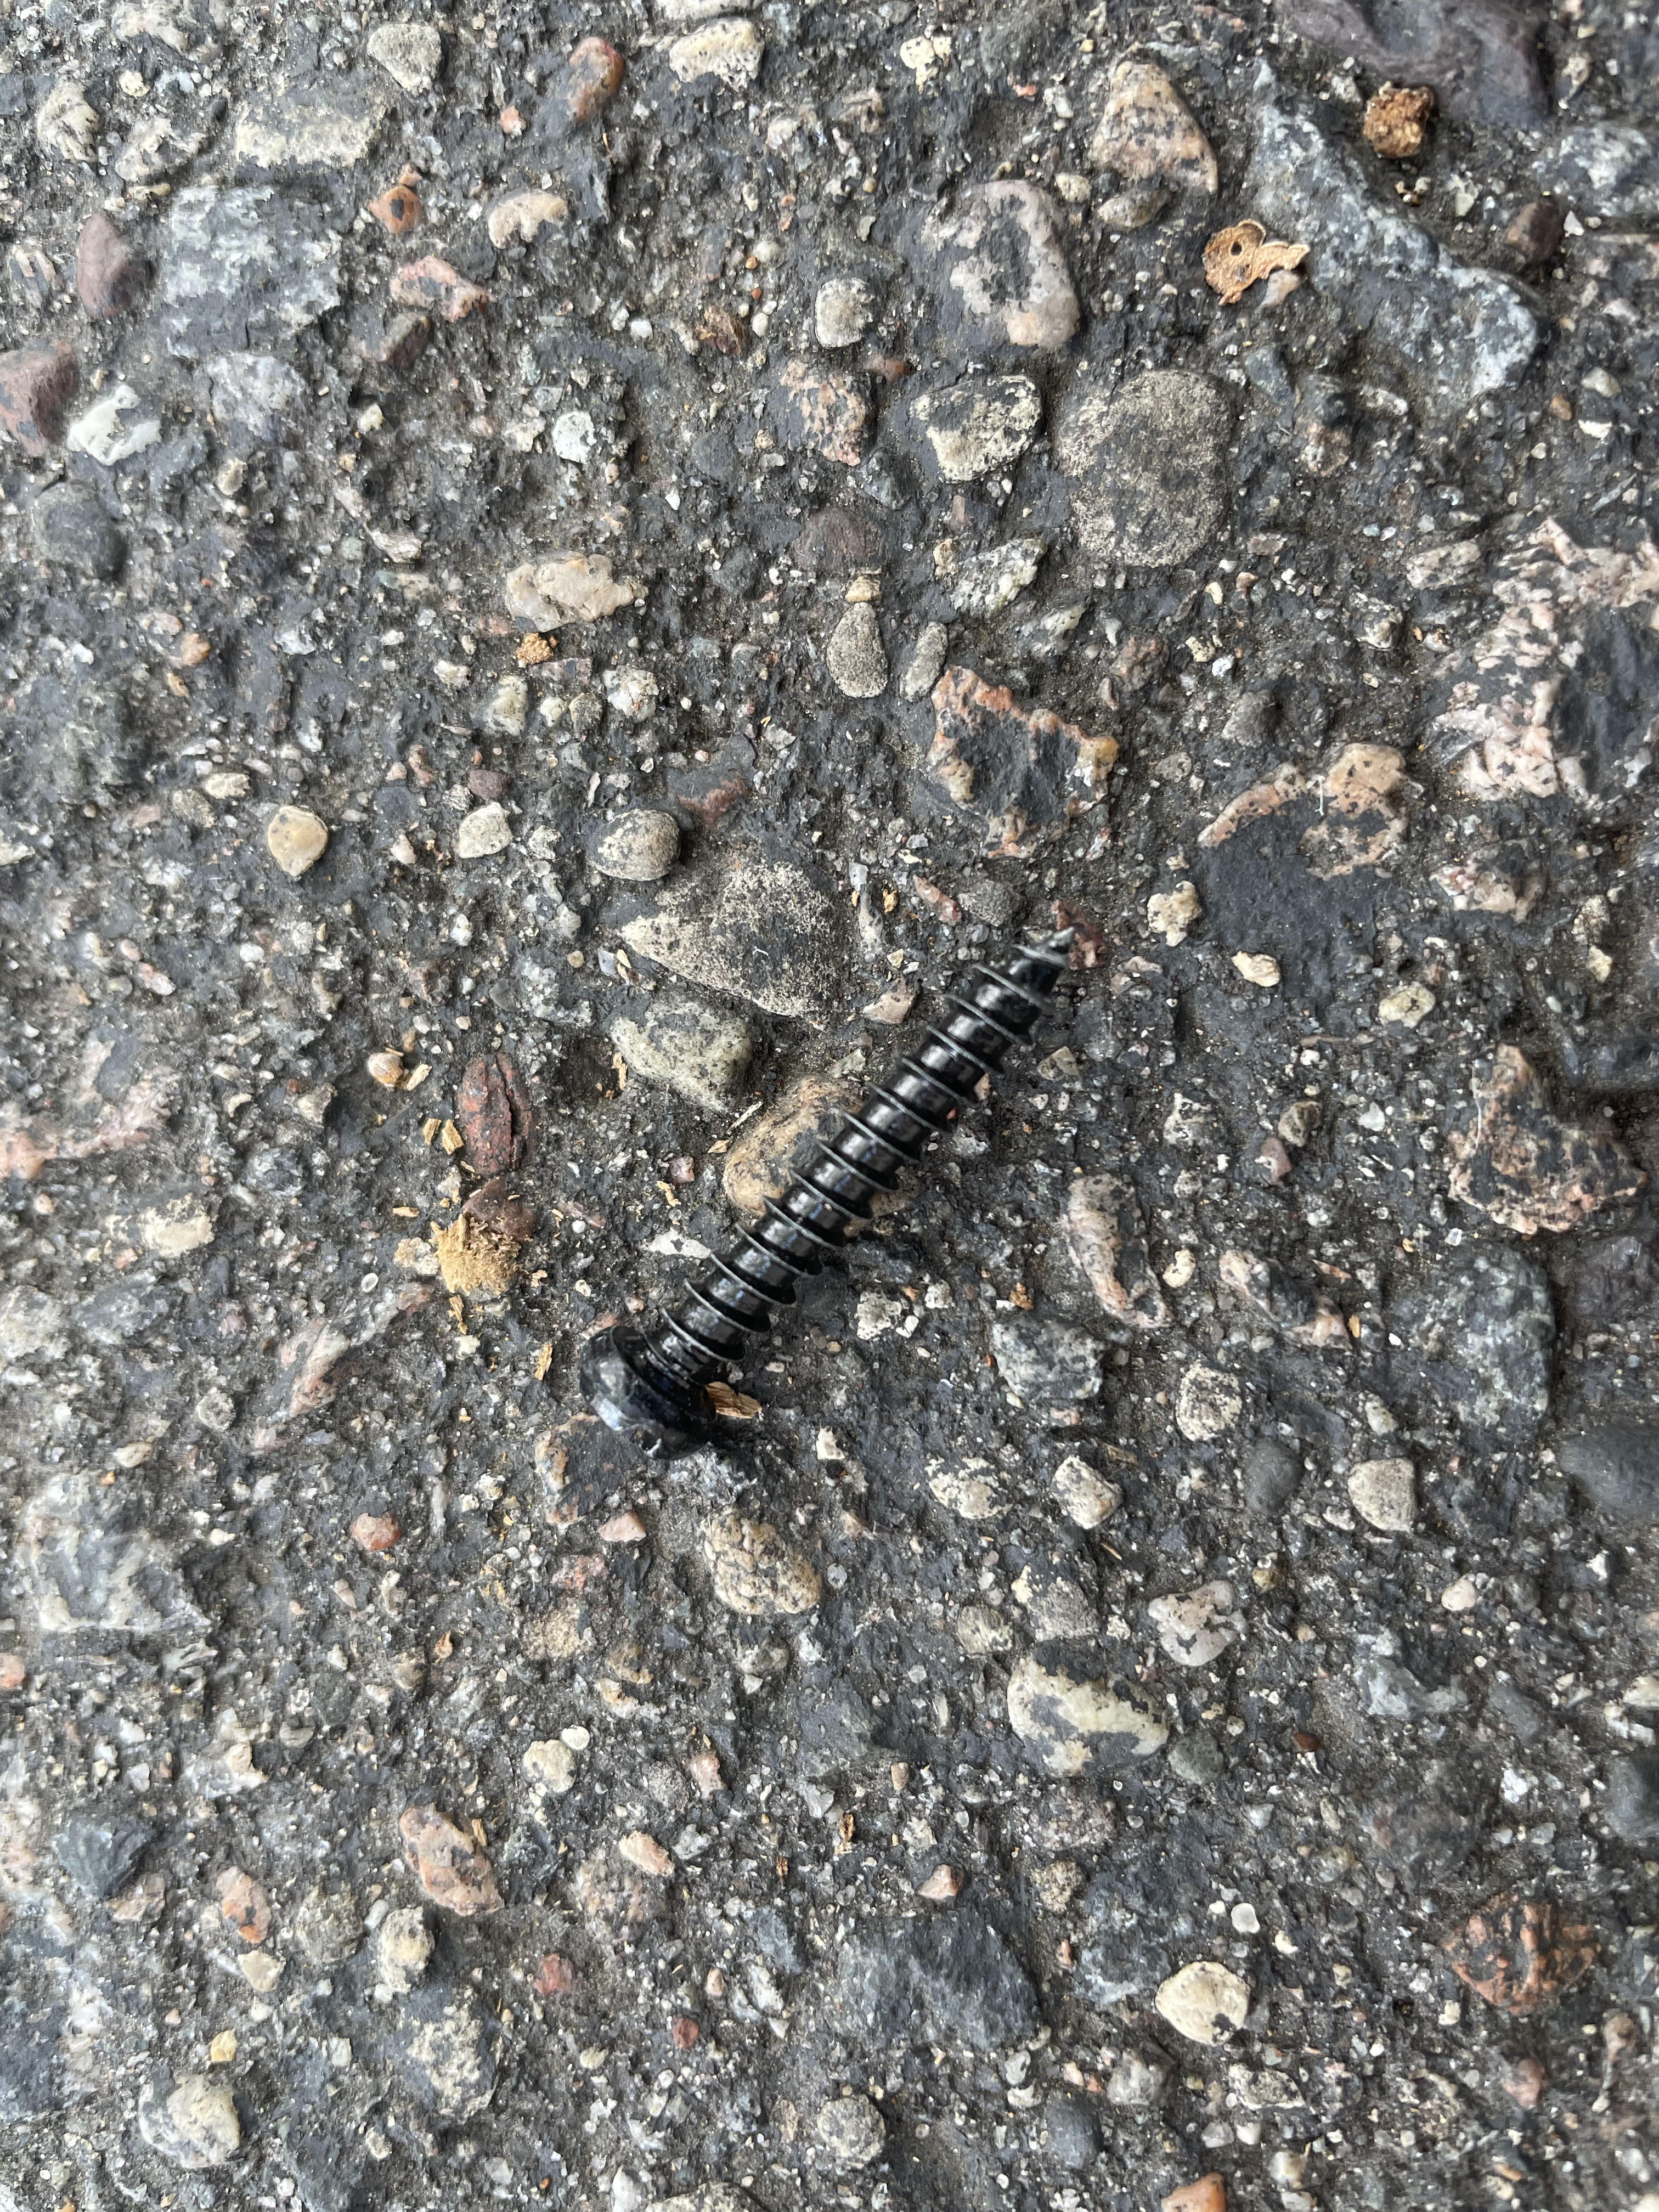screw: (580, 930, 1072, 1461)
